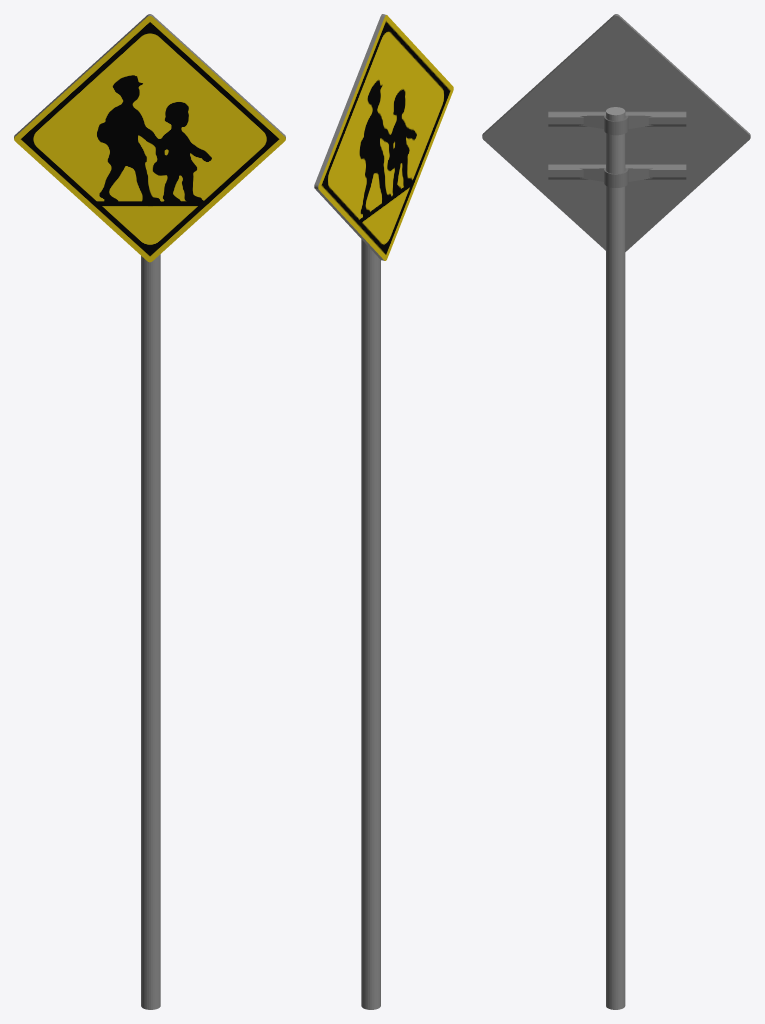
3 renders of one model, left to right at view 1: azimuth 90°, elevation 25°; view 2: azimuth 150°, elevation 25°; view 3: azimuth 270°, elevation 25°, orthographic.
Parts seen in each view (by area): view 1: 010, Prop; view 2: 010, Prop; view 3: 010, Prop.
Boxes of the visible parts, <box> form: 010: <box>14,14,285,262</box>; Prop: <box>141,254,160,1009</box>; 010: <box>314,14,453,260</box>; Prop: <box>361,239,380,1009</box>; 010: <box>482,14,750,251</box>; Prop: <box>548,107,686,1009</box>.
Bounding box in the file's own units: 6.76 × 259 × 63.95.
